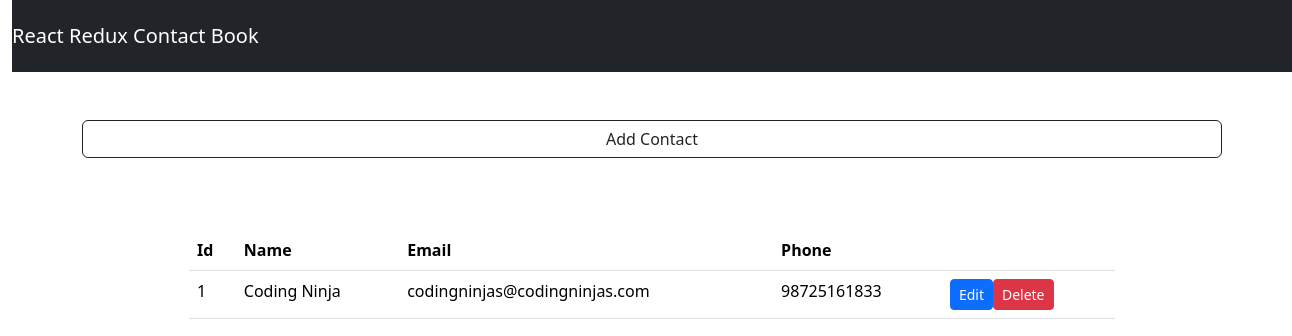
Test: Contact Book App › should delete a contact
Click the button "Delete" at (1024, 295), box [993,279,1054,310]
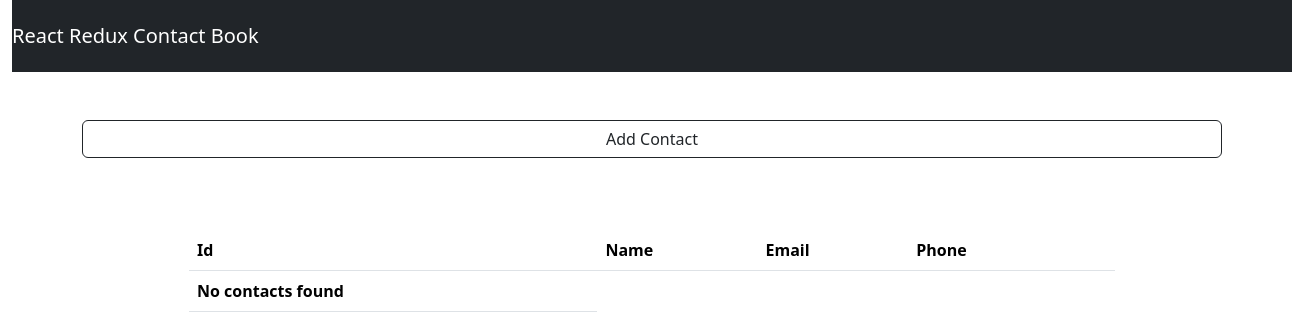
Result: the text "Coding Ninja" is gone
